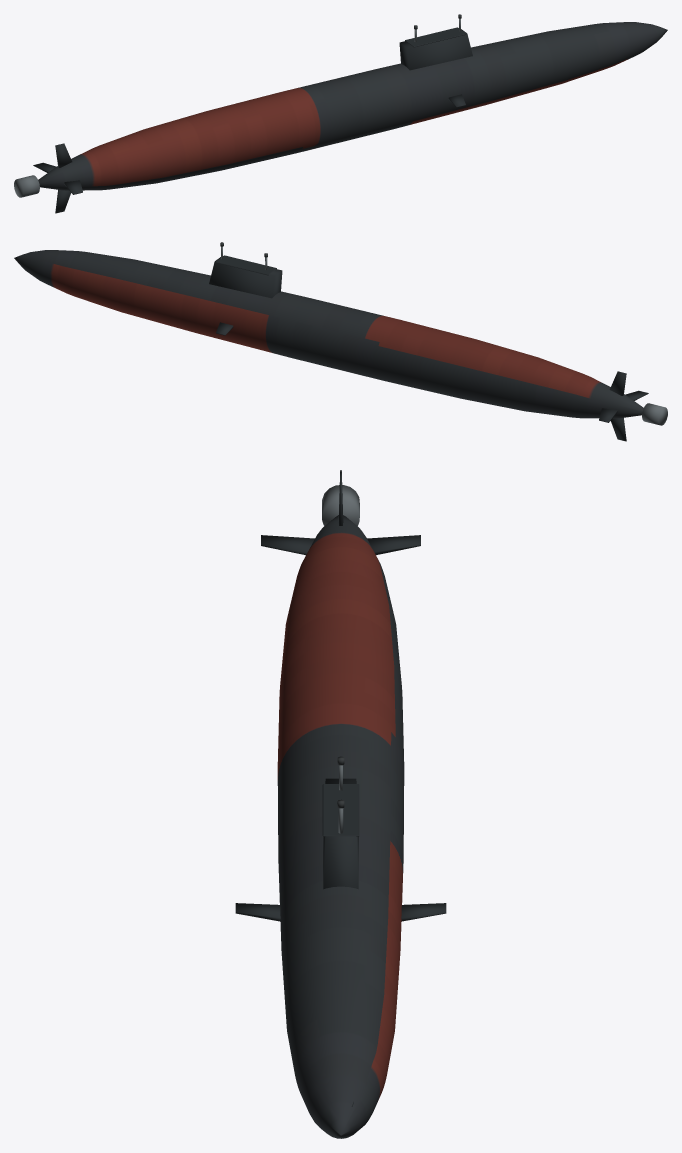
File: US_SSN_Virginia_LOD2.fbx
3 renders of one model, top to bottom at view 1: azimuth 30°, elevation 25°; view 2: azimuth 150°, elevation 25°; view 3: azimuth 270°, elevation 25°, orthographic. The views are drawn at different scales.
Visible parts, largest first — view 1: US_SSN_Virginia_LOD2; view 2: US_SSN_Virginia_LOD2; view 3: US_SSN_Virginia_LOD2.
Part boxes in pixels (x1,y1,x2,y2): US_SSN_Virginia_LOD2: (14,14,667,213); US_SSN_Virginia_LOD2: (14,242,667,441); US_SSN_Virginia_LOD2: (235,470,446,1138).
Bounding box in the file's own units: 118 × 16.66 × 17.36.
Materials: 6 (1 with a texture image).
